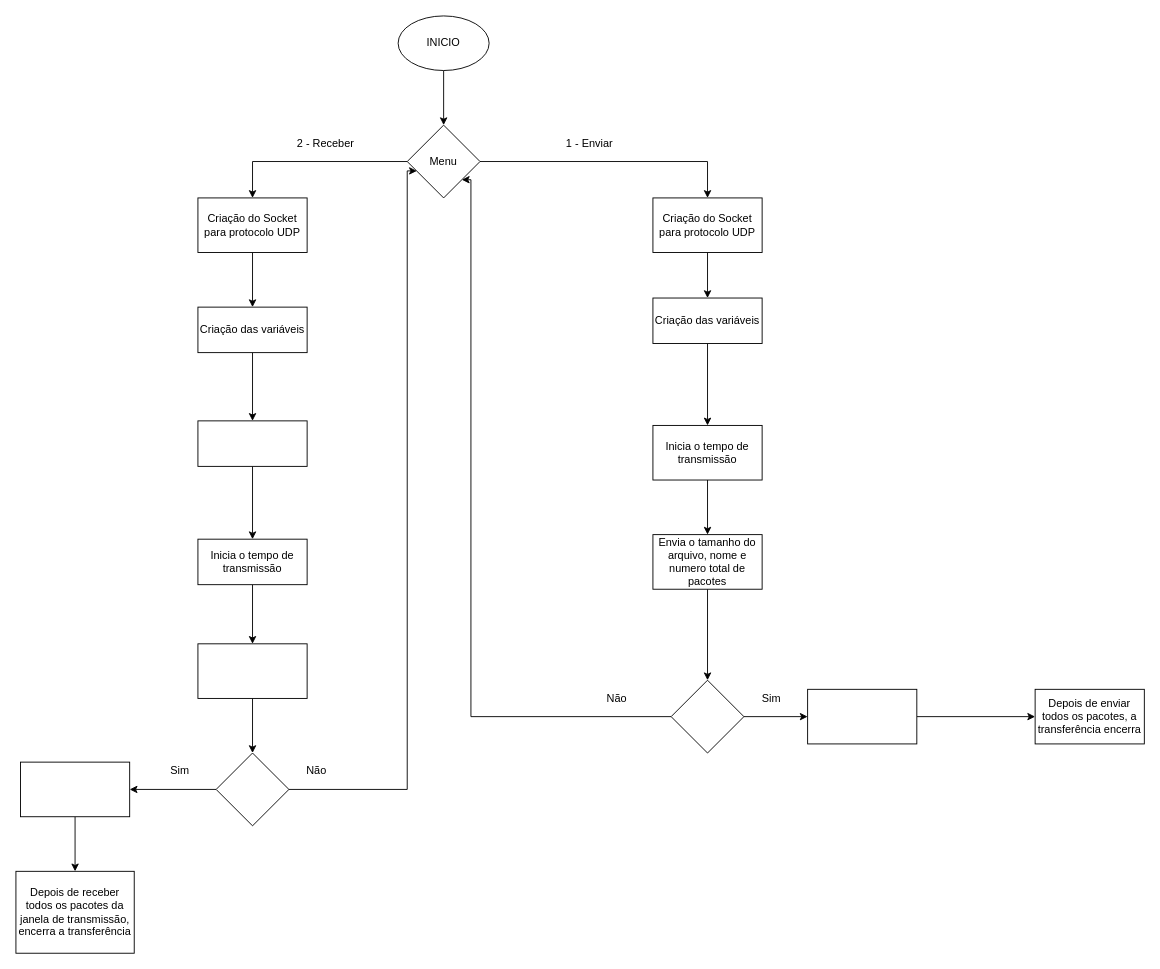
Some shapes in this 1160 by 969 pixel diagram are drawn without their labels. Here are the shapes that lost their labels. From the top down, the centre of each, then its label:
At (252,443): "Linka o servidor e a porta".
At (252,670): "Espera uma conexão".
At (707,716): "Há pacotes para enviar?".
At (862,716): "Enquanto há pacotes para enviar, estabelece a conexão e os envia".
At (75,789): "Enquanto há pacotes para receber, trata os dados e os recebe".
At (252,789): "Há pacotes para receber?".
